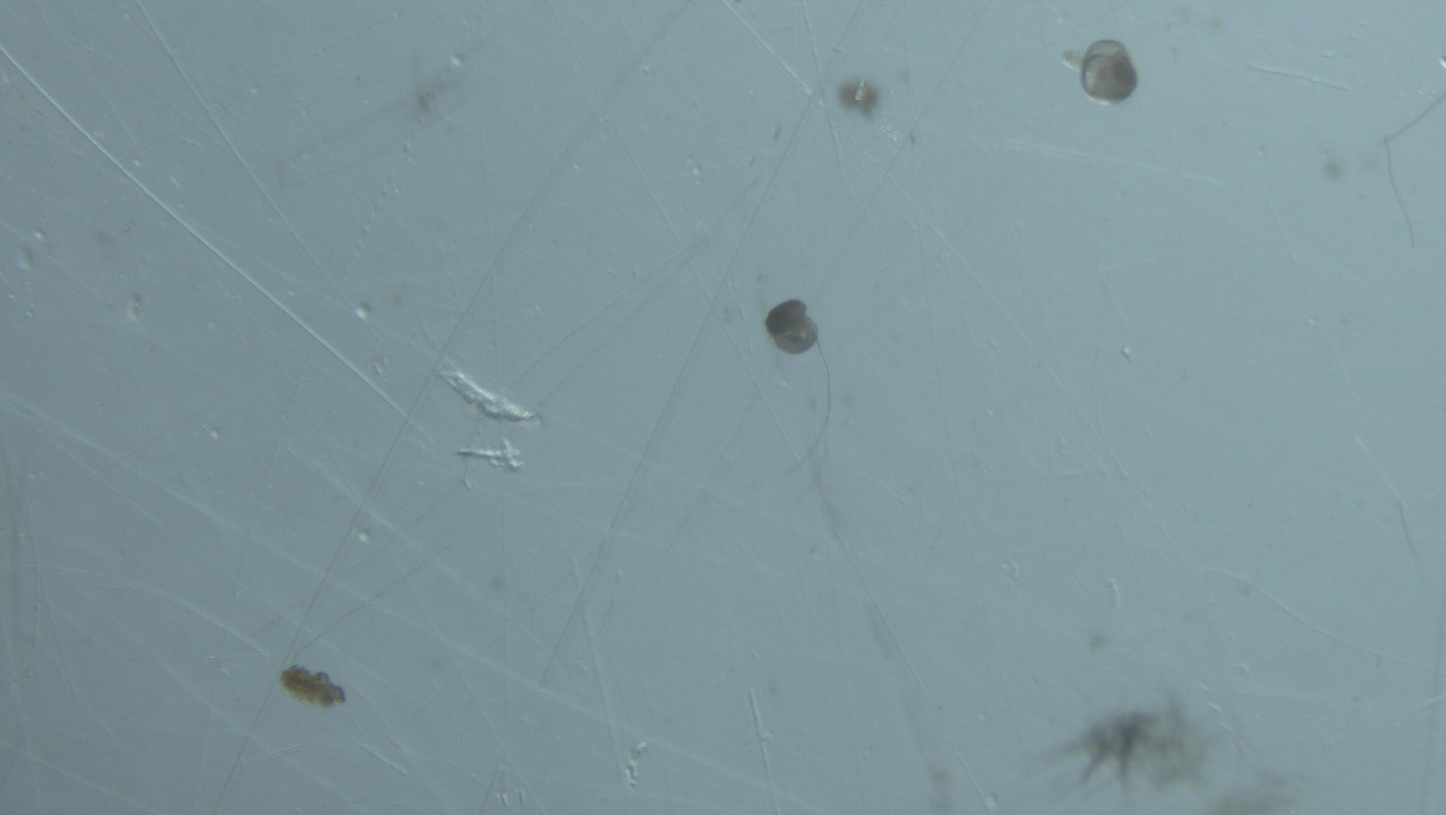live: (1064, 40, 1137, 104)
